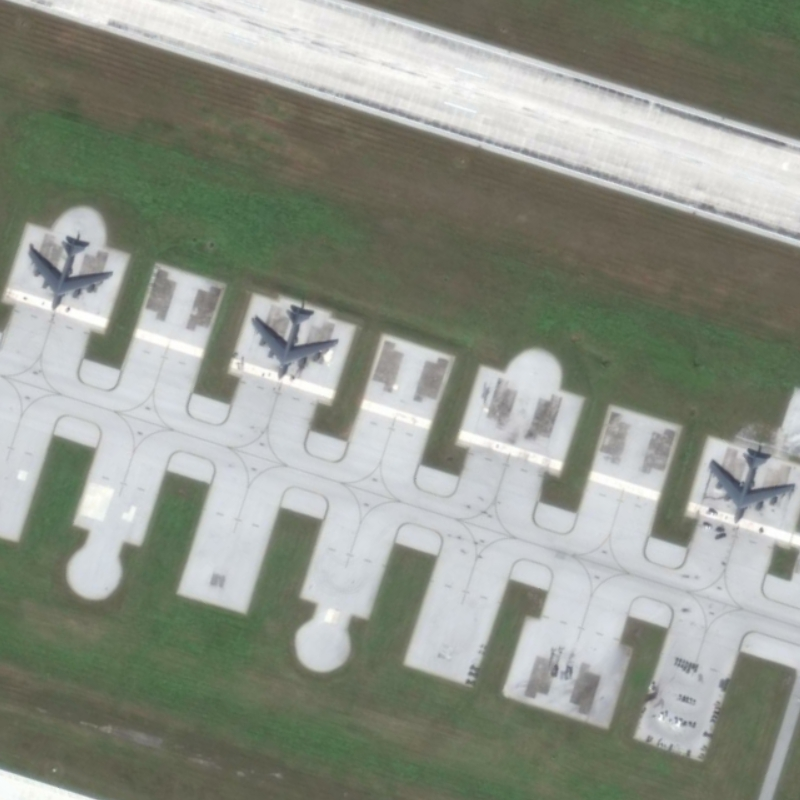A8: (247, 304, 343, 385), (706, 446, 797, 526), (27, 237, 115, 313)
